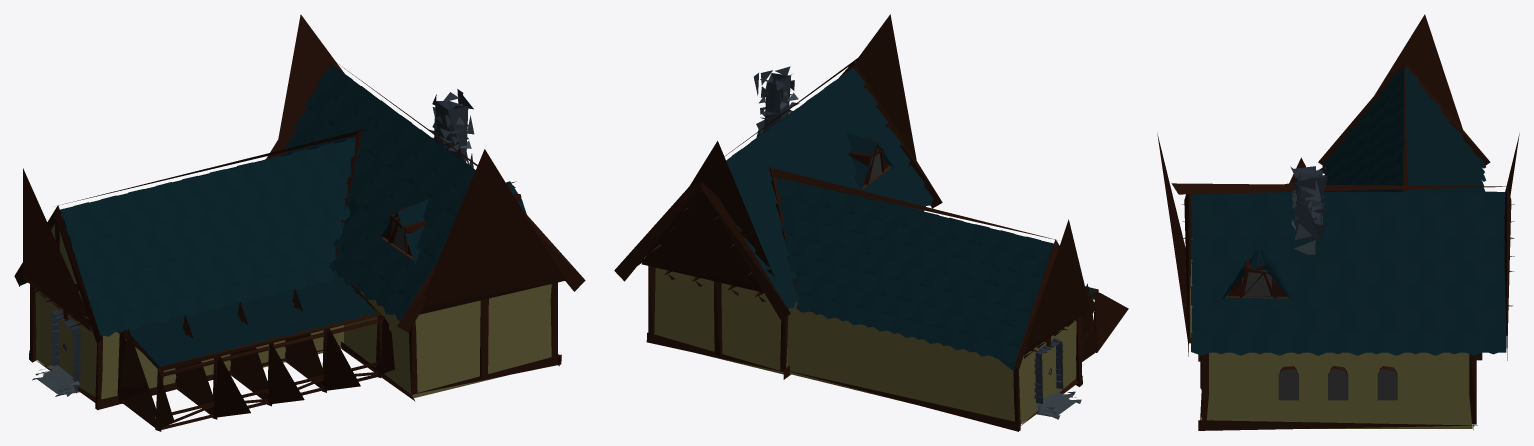
The model's file is Stable.fbx.
The picture shows the model from 3 angles, left to right: view 1: azimuth 30°, elevation 25°; view 2: azimuth 150°, elevation 25°; view 3: azimuth 270°, elevation 25°; orthographic projection. The views are drawn at different scales.
Parts seen in each view (by area): view 1: High_Stable, Low_Stable; view 2: High_Stable, Low_Stable; view 3: High_Stable, Low_Stable.
Boxes of the visible parts, left/top/right/bottom form: High_Stable: left=14, top=57, right=585, bottom=431; Low_Stable: left=20, top=14, right=565, bottom=429; High_Stable: left=614, top=54, right=1100, bottom=431; Low_Stable: left=641, top=14, right=1128, bottom=374; High_Stable: left=1171, top=60, right=1514, bottom=430; Low_Stable: left=1157, top=14, right=1519, bottom=340.
Size of the model in its own units: 478 by 265 by 344.
